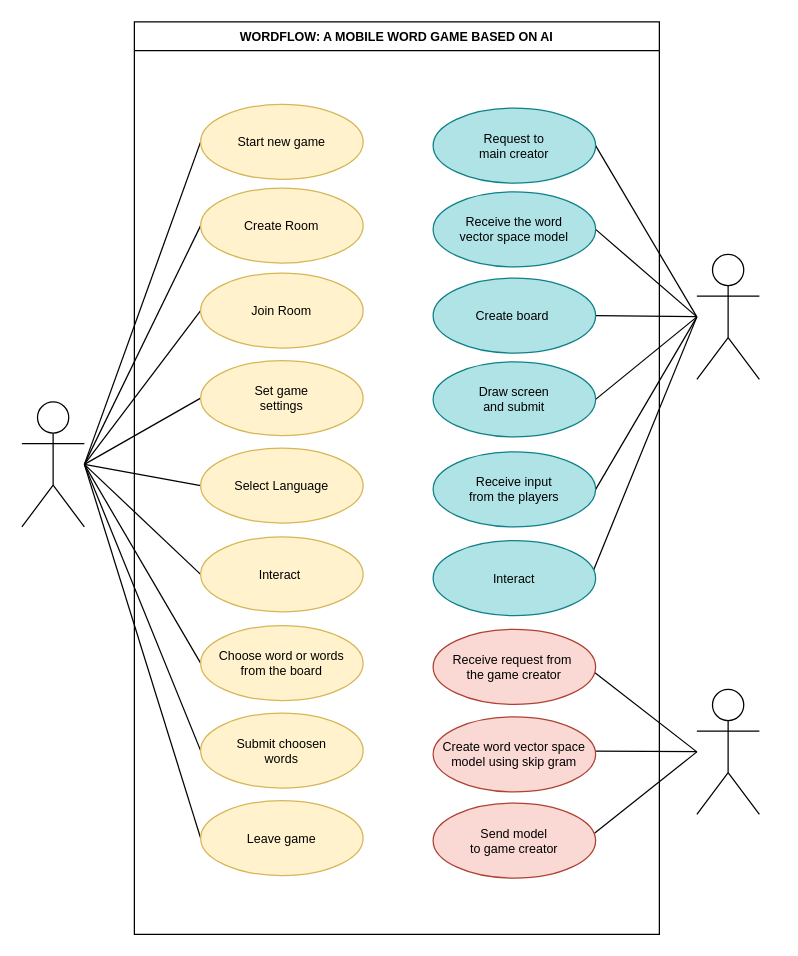
Image size: 798x956. Some labels were removed from this diagram. The box of each missing label's shape, as (x1, y1, x2, y2) in pixels:
Game Creator: (696, 253, 759, 379)
Main Creator: (696, 688, 759, 814)
Player: (21, 401, 84, 527)
